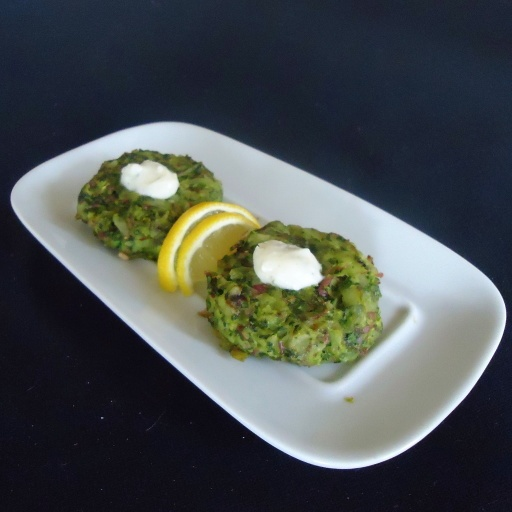background: (61, 119, 307, 294)
